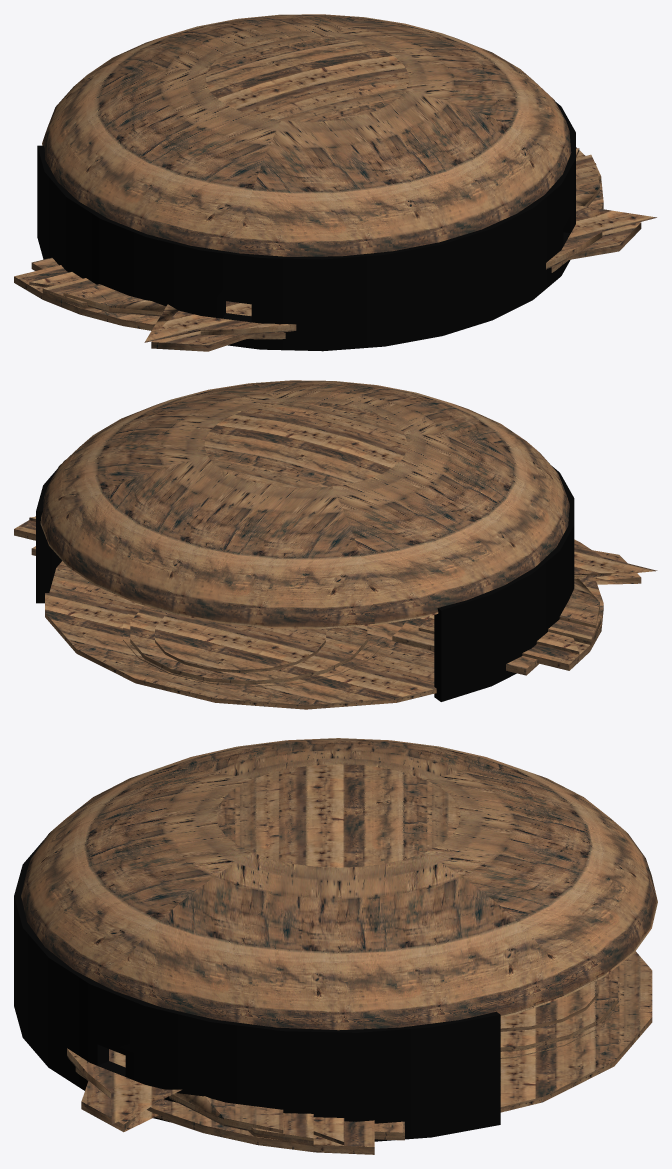
Rendered from basic_stage.glb.
The picture shows the model from 3 angles, top to bottom: view 1: azimuth 30°, elevation 25°; view 2: azimuth 150°, elevation 25°; view 3: azimuth 270°, elevation 25°; orthographic projection. The views are drawn at different scales.
Visible parts, largest first — view 1: MaterialFBXASC032FBXASC03525 (×4); view 2: MaterialFBXASC032FBXASC03525 (×8); view 3: MaterialFBXASC032FBXASC03525 (×8).
Part boxes in pixels (box(x1,y1,x2,y2)): MaterialFBXASC032FBXASC03525 (×4): box(14, 14, 656, 351); MaterialFBXASC032FBXASC03525 (×8): box(14, 380, 657, 709); MaterialFBXASC032FBXASC03525 (×8): box(14, 738, 657, 1154).
Size of the model in its own units: 142 by 40.07 by 119.
1 material, 1 textured.
